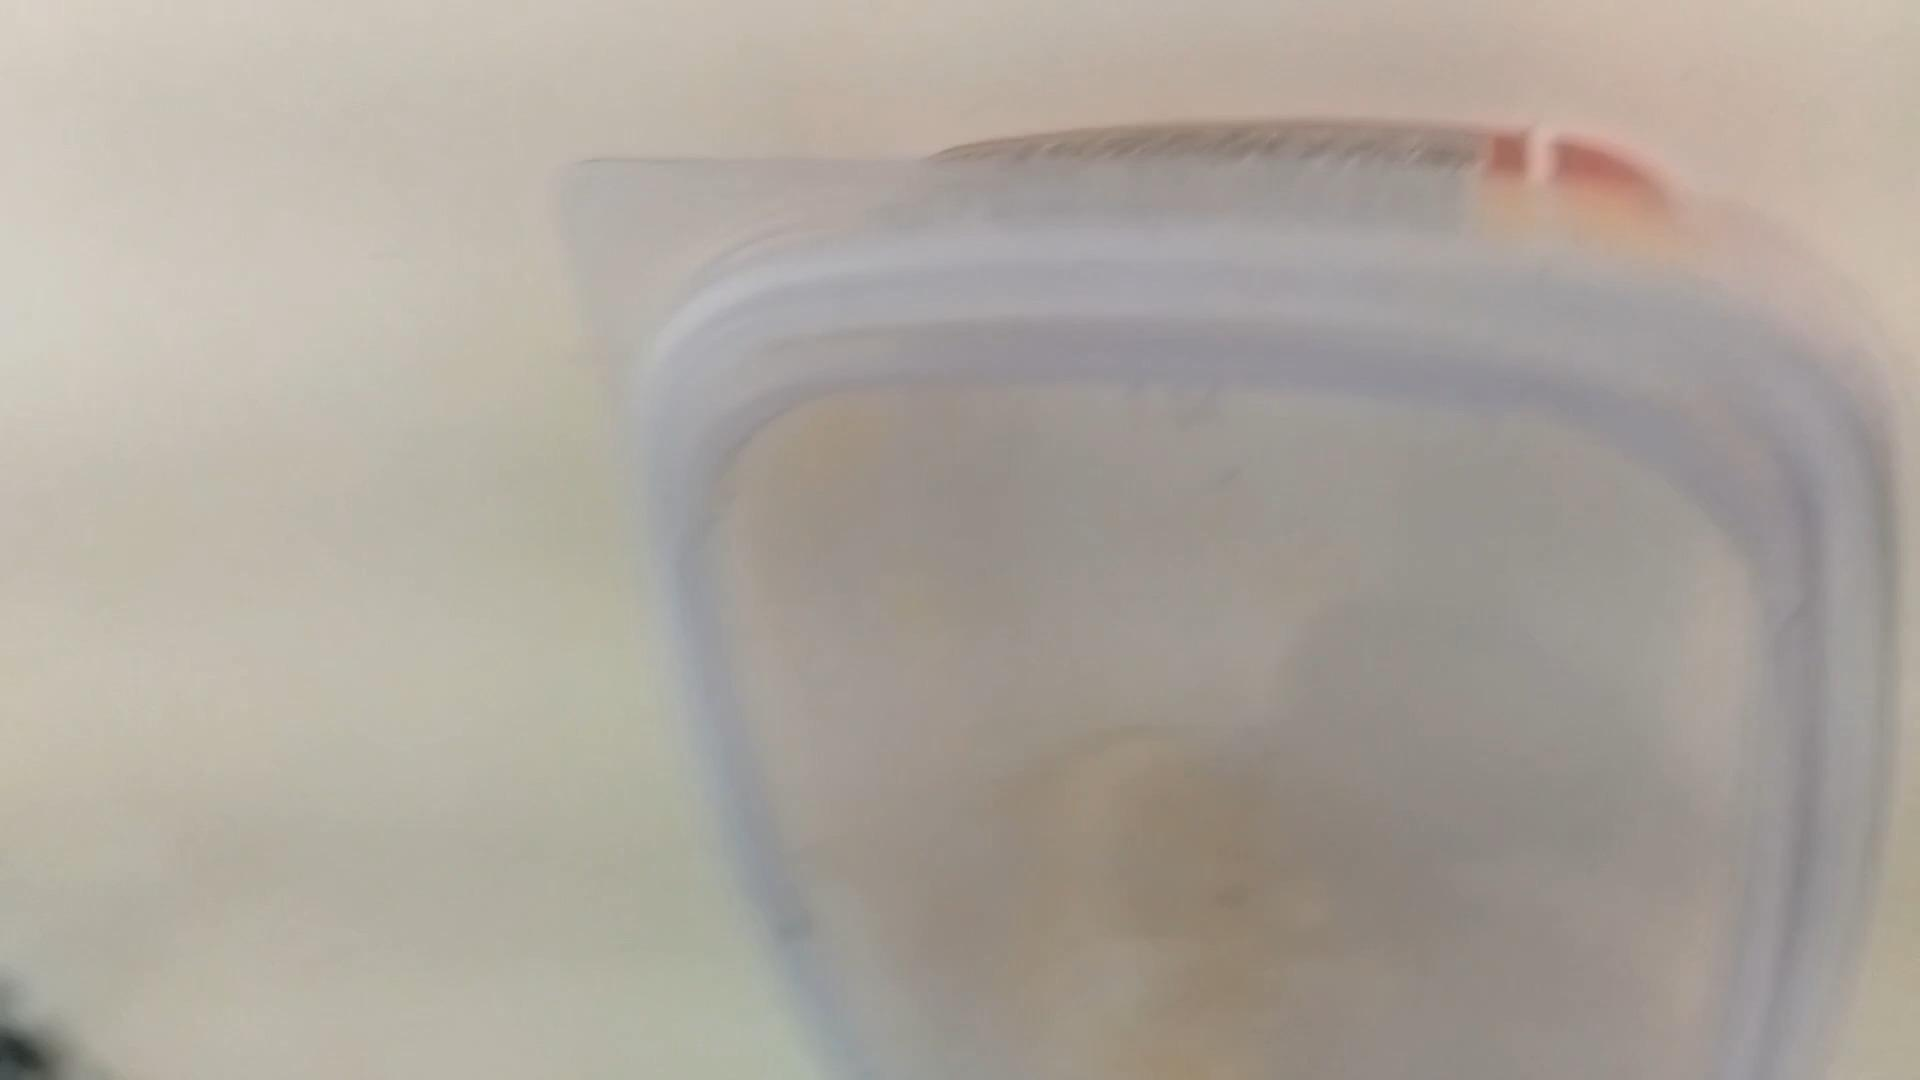butter: (517, 116, 1920, 1080)
